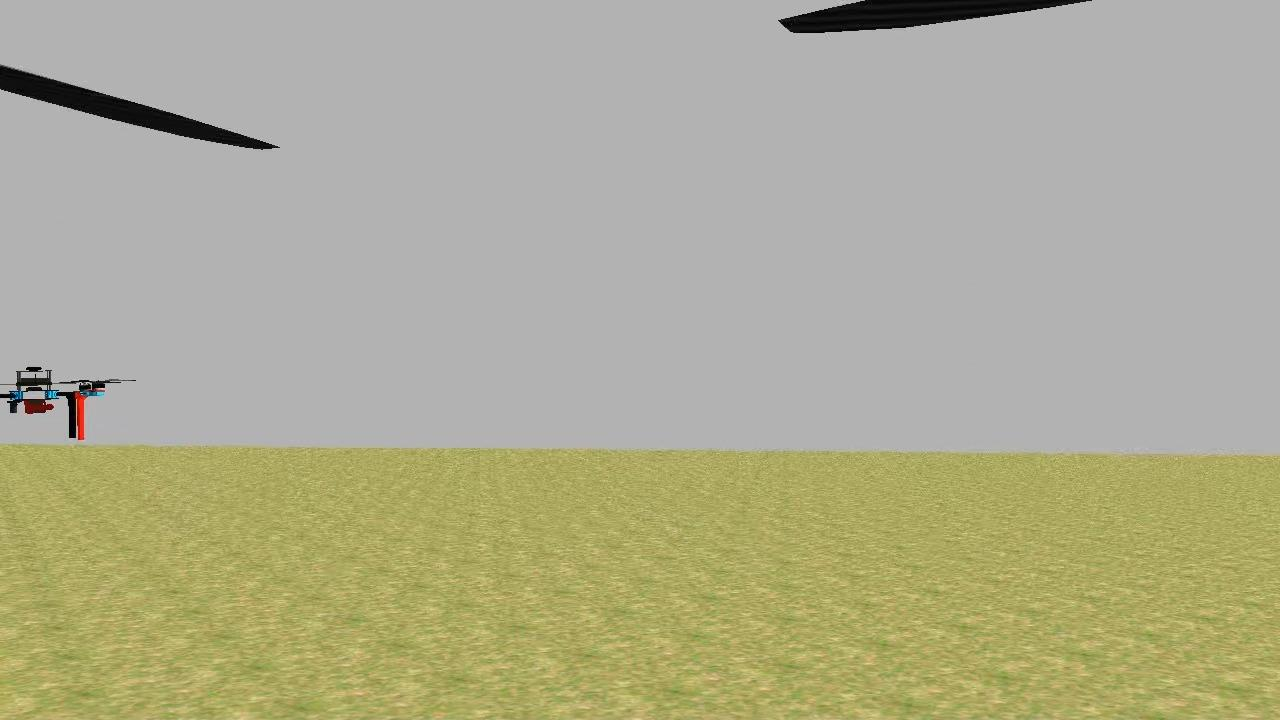UAV: (0, 358, 114, 442)
